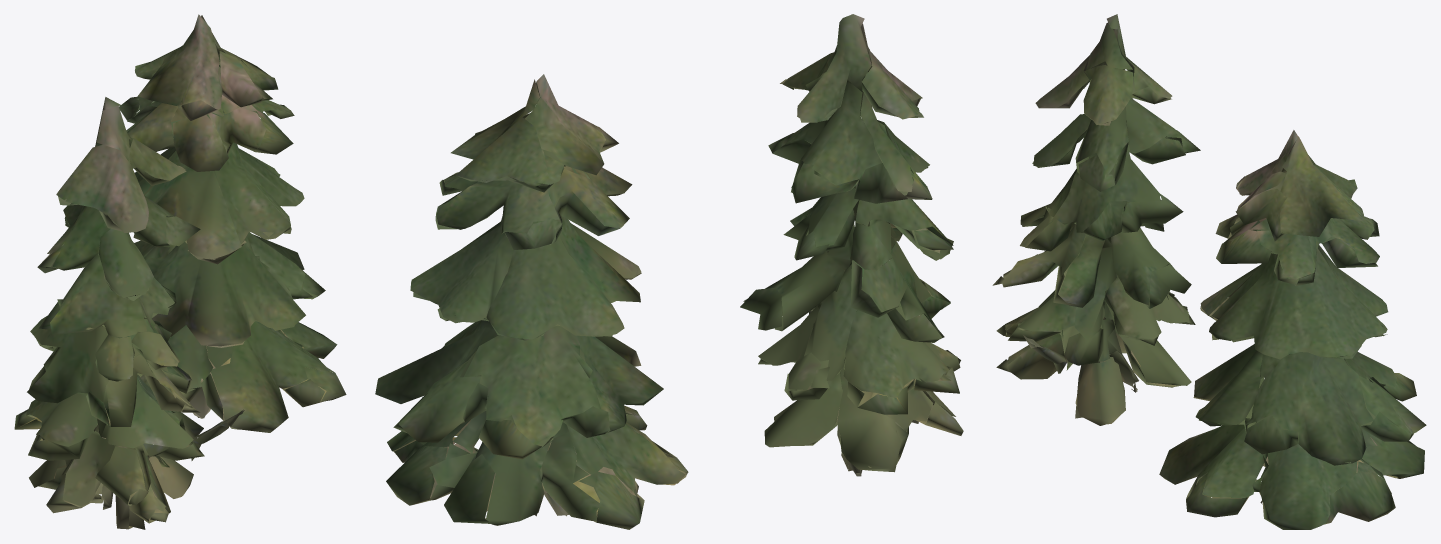
The model's file is conifer_pair_01_lod1.glb.
3 renders of one model, left to right at view 1: azimuth 30°, elevation 25°; view 2: azimuth 150°, elevation 25°; view 3: azimuth 270°, elevation 25°, orthographic. The views are drawn at different scales.
Visible parts, largest first — view 1: candidate_008_lod1; view 2: candidate_008_lod1; view 3: candidate_008_lod1.
Part boxes in pixels (x1,y1,x2,y2): candidate_008_lod1: (14,14,346,529); candidate_008_lod1: (375,14,963,529); candidate_008_lod1: (992,14,1426,529).
Size of the model in its own units: 0.1738 by 0.1728 by 0.1703.
Materials: 1 (1 with a texture image).
